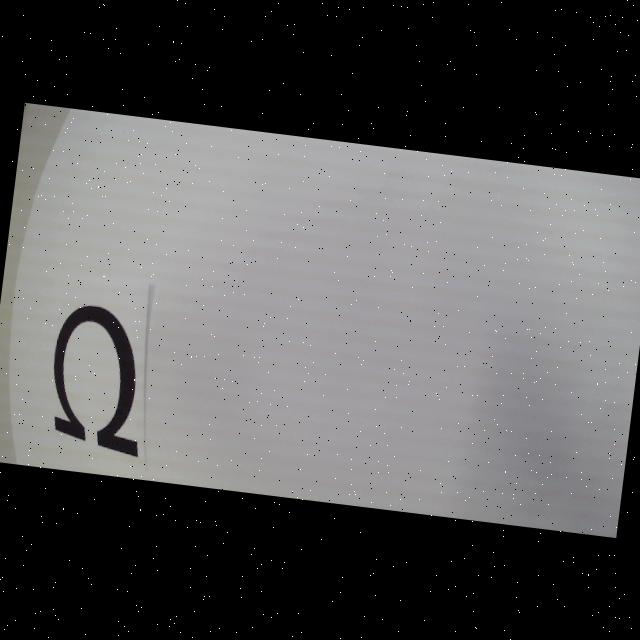OMEGA: (42, 301, 156, 458)
